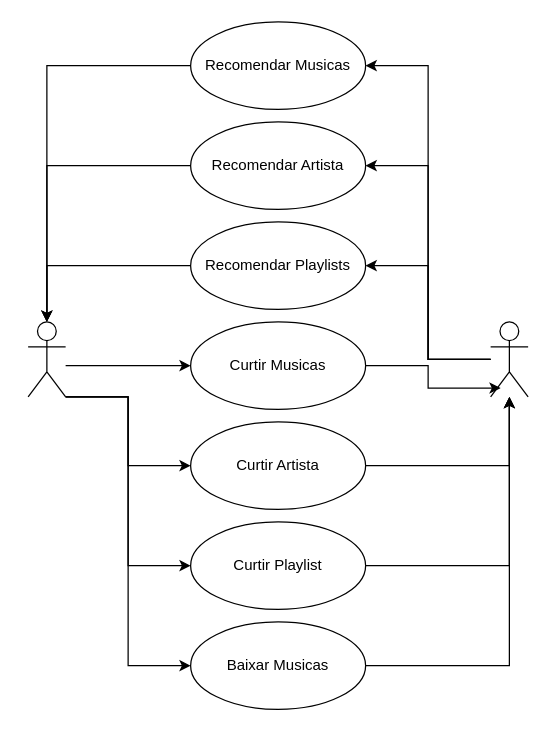
Image size: 553x731. Some labels were removed from this diagram. Each missing label, with the centre of its shape:
"Artista" goes at (508,359).
"Usuario" goes at (46,359).
